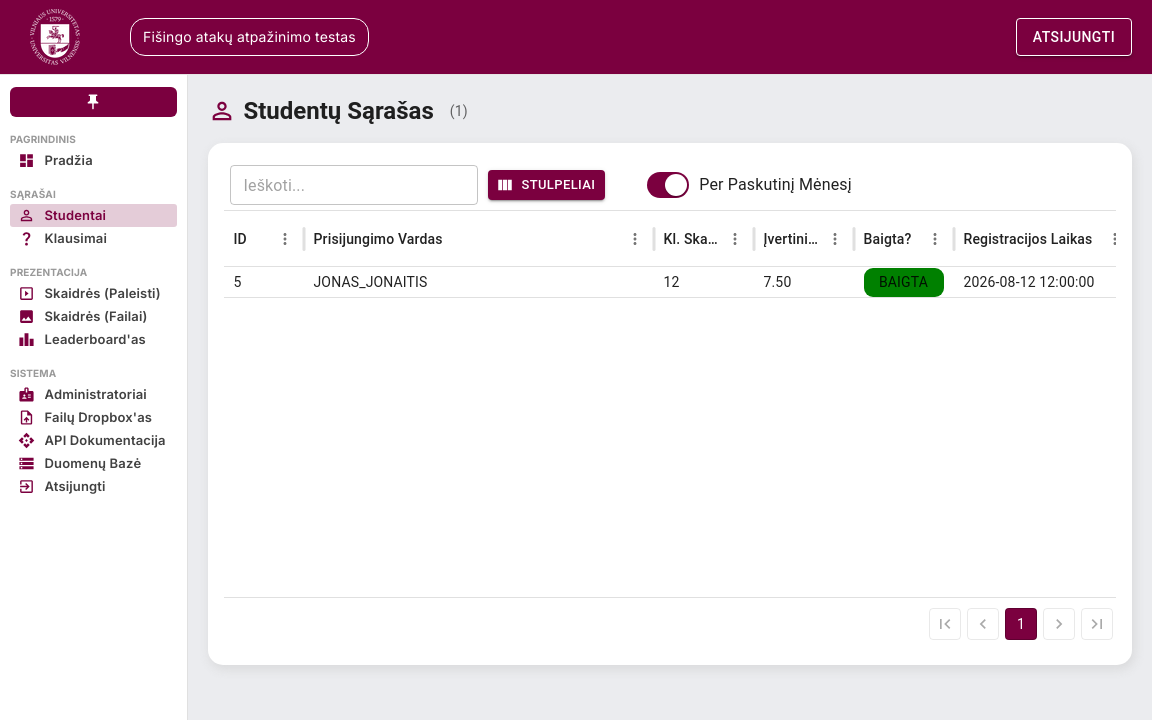
StudentsList — the column picker 'STULPELIAI' › opens the grid's column picker: every column listed, every one ticked
This screenshot has width=1152, height=720.
Click the button "STULPELIAI" at (546, 185), box [488, 170, 605, 200]
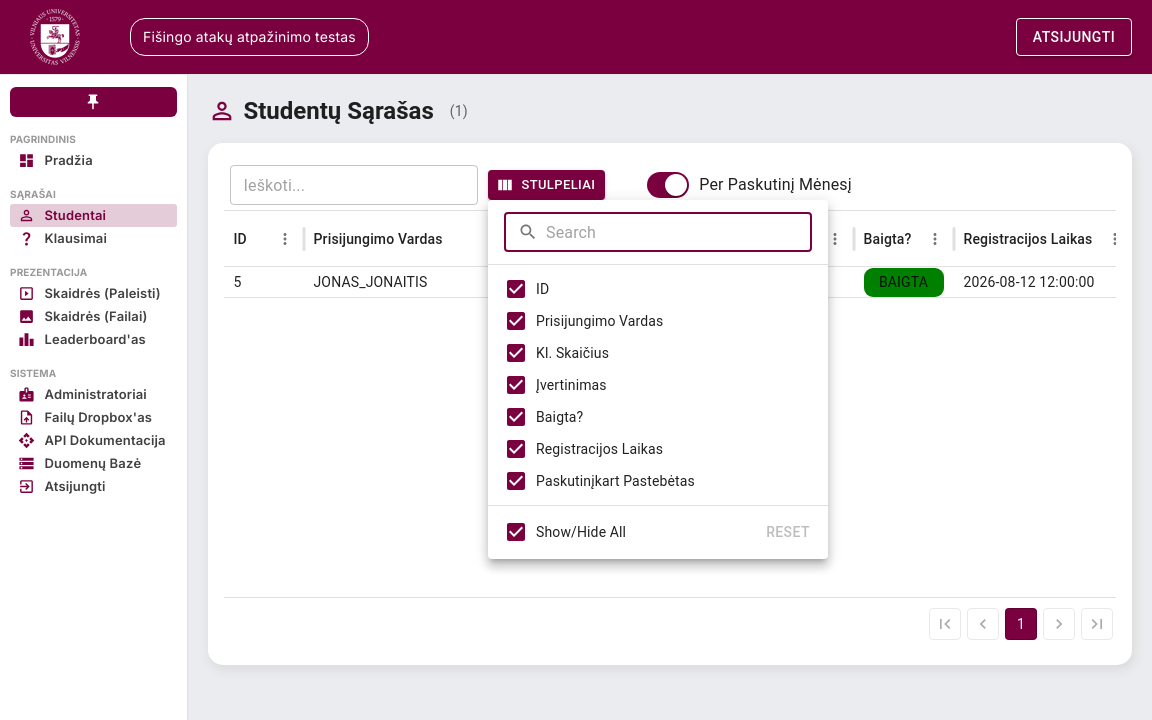
expect the checkbox labelled "ID" is checked: met, box [504, 277, 549, 301]
expect the checkbox labelled "Prisijungimo Vardas" is checked: met, box [504, 309, 664, 333]
expect the checkbox labelled "Kl. Skaičius" is checked: met, box [504, 341, 609, 365]
